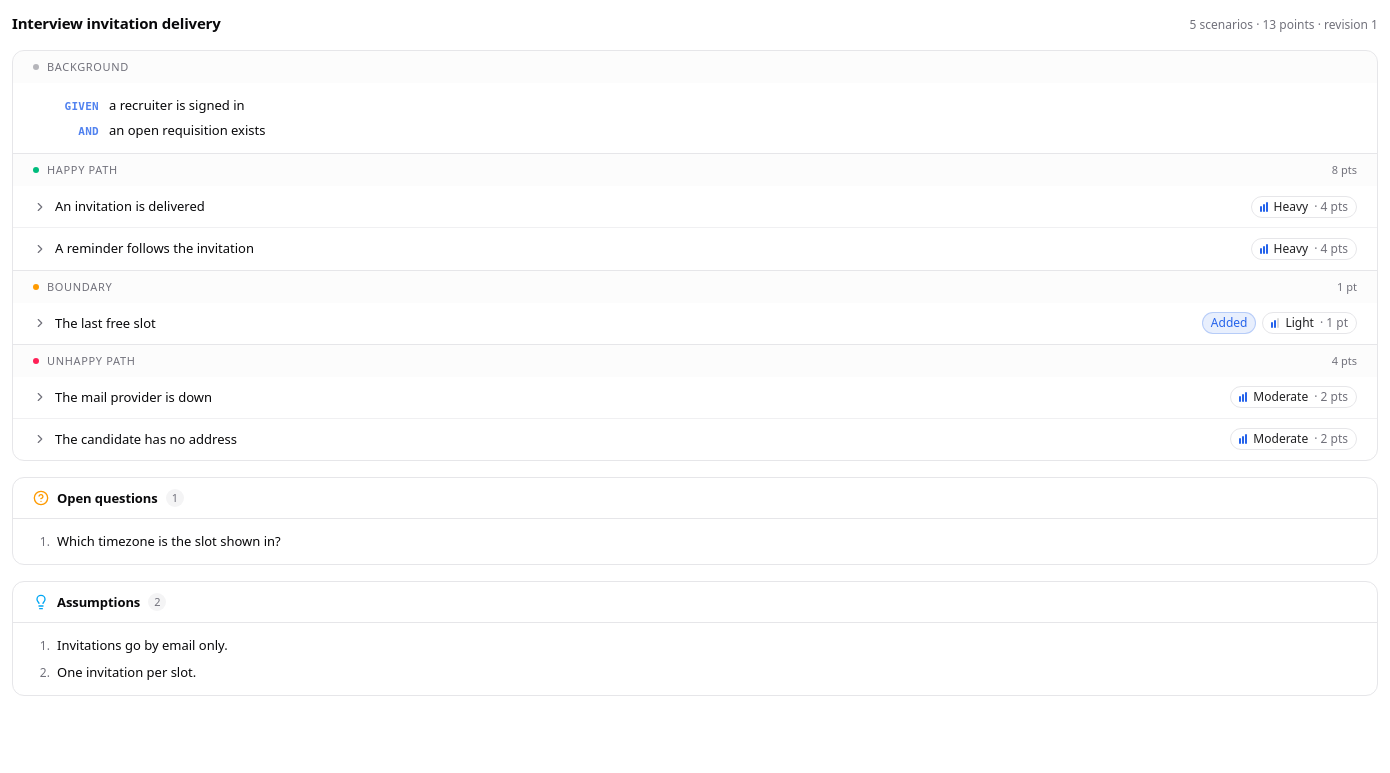
each scenario wears its weight and points, each group and the spec their totals
The width and height of the screenshot is (1390, 773).
Expected: the text "Interview invitation delivery" is shown, [12, 12, 221, 34]
Expected: the text "5 scenarios · 13 points · revision 1" is shown, [1190, 17, 1378, 33]
Click the button "An invitation is delivered Heavy · 4 pts": (130, 206) [13, 186, 1377, 227]
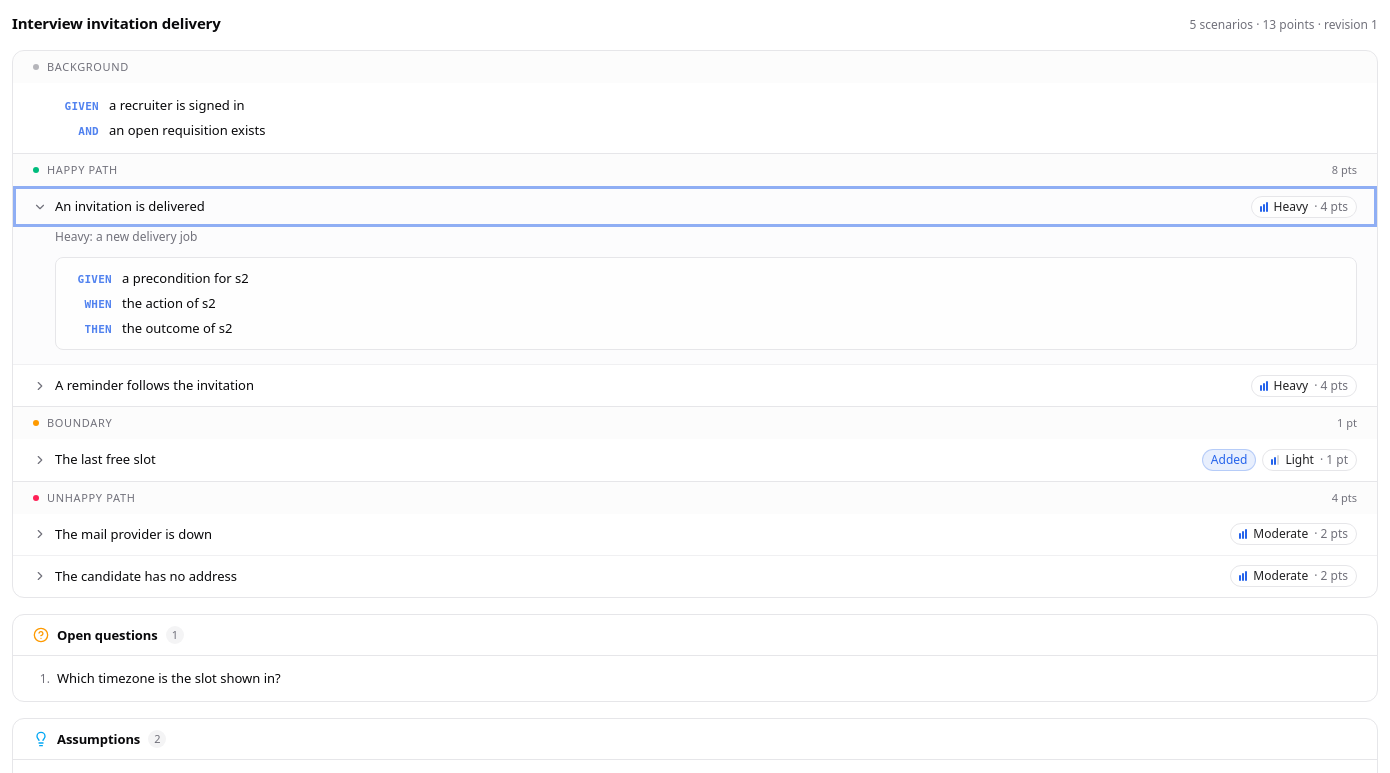
Expected: the text "Heavy: a new delivery job" is shown, [55, 228, 198, 245]
